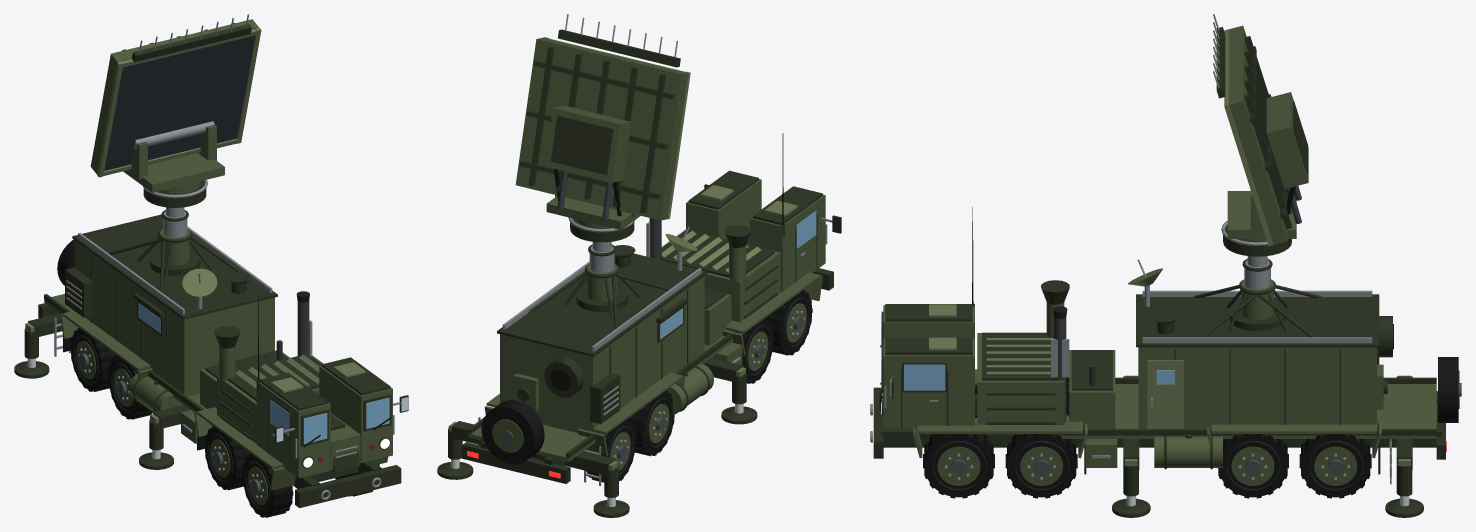
File: complex-radar.glb
3 renders of one model, left to right at view 1: azimuth 30°, elevation 25°; view 2: azimuth 150°, elevation 25°; view 3: azimuth 270°, elevation 25°, orthographic. The views are drawn at different scales.
Parts seen in each view (by area): view 1: part-0483, part-0415, part-0416, part-0302, part-0320, part-0468, part-0013, part-0474, part-0345, part-0489, part-0286, part-0346 (+39 smaller); view 2: part-0474, part-0415, part-0416, part-0302, part-0499, part-0498, part-0376, part-0345, part-0320, part-0346, part-0010, part-0018 (+39 smaller); view 3: part-0415, part-0416, part-0320, part-0010, part-0474, part-0345, part-0346, part-0498, part-0425, part-0365, part-0001, part-0447 (+27 smaller).
Boxes of the visible parts, x1,y1,x2,y2 form: part-0483: (104, 35, 255, 170); part-0415: (75, 241, 274, 396); part-0416: (72, 214, 277, 319); part-0302: (256, 382, 330, 478); part-0320: (319, 365, 392, 462); part-0468: (123, 153, 224, 192); part-0013: (295, 465, 401, 507); part-0474: (90, 19, 258, 173); part-0345: (217, 355, 323, 443); part-0489: (131, 24, 251, 62); part-0286: (62, 310, 150, 370); part-0346: (228, 355, 321, 400); part-0474: (515, 37, 687, 220); part-0415: (500, 276, 704, 432); part-0416: (497, 253, 707, 356); part-0302: (750, 194, 825, 291); part-0499: (550, 115, 613, 175); part-0498: (545, 105, 631, 182); part-0376: (481, 400, 544, 464); part-0345: (661, 229, 780, 322); part-0320: (686, 179, 761, 239); part-0346: (660, 230, 774, 277); part-0010: (468, 331, 742, 461); part-0018: (462, 442, 570, 483); part-0415: (1138, 347, 1376, 428); part-0416: (1136, 294, 1379, 347); part-0320: (883, 338, 974, 428); part-0010: (1060, 384, 1436, 438); part-0474: (1229, 25, 1287, 244); part-0345: (977, 333, 1064, 434); part-0346: (982, 332, 1057, 380); part-0498: (1266, 92, 1308, 189); part-0425: (1147, 360, 1183, 428); part-0365: (1154, 436, 1222, 467); part-0001: (881, 427, 1441, 447); part-0447: (1069, 350, 1115, 428).
Size of the model in its own units: 5.04 by 10.27 by 12.87.
